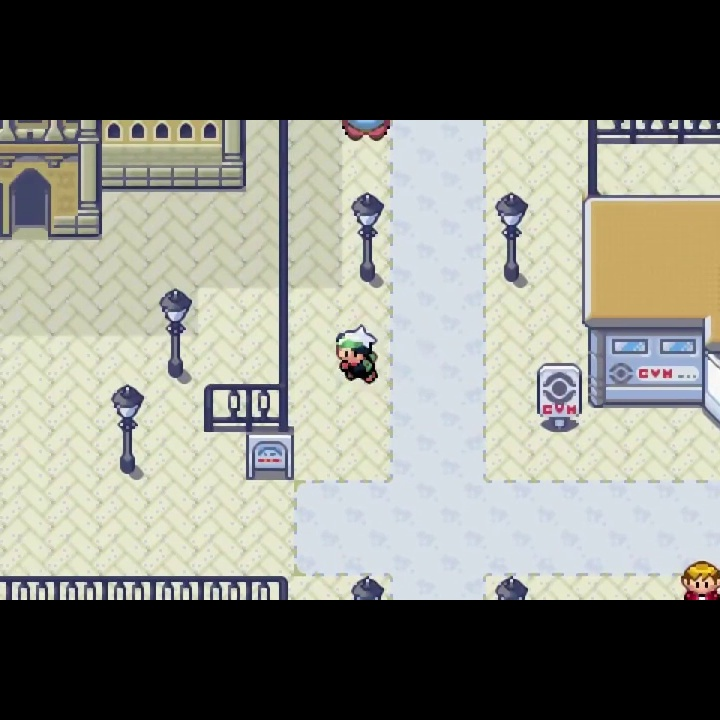gym: (581, 194, 720, 433)
house: (1, 119, 247, 239)
npc: (333, 324, 383, 387), (676, 558, 720, 602)
